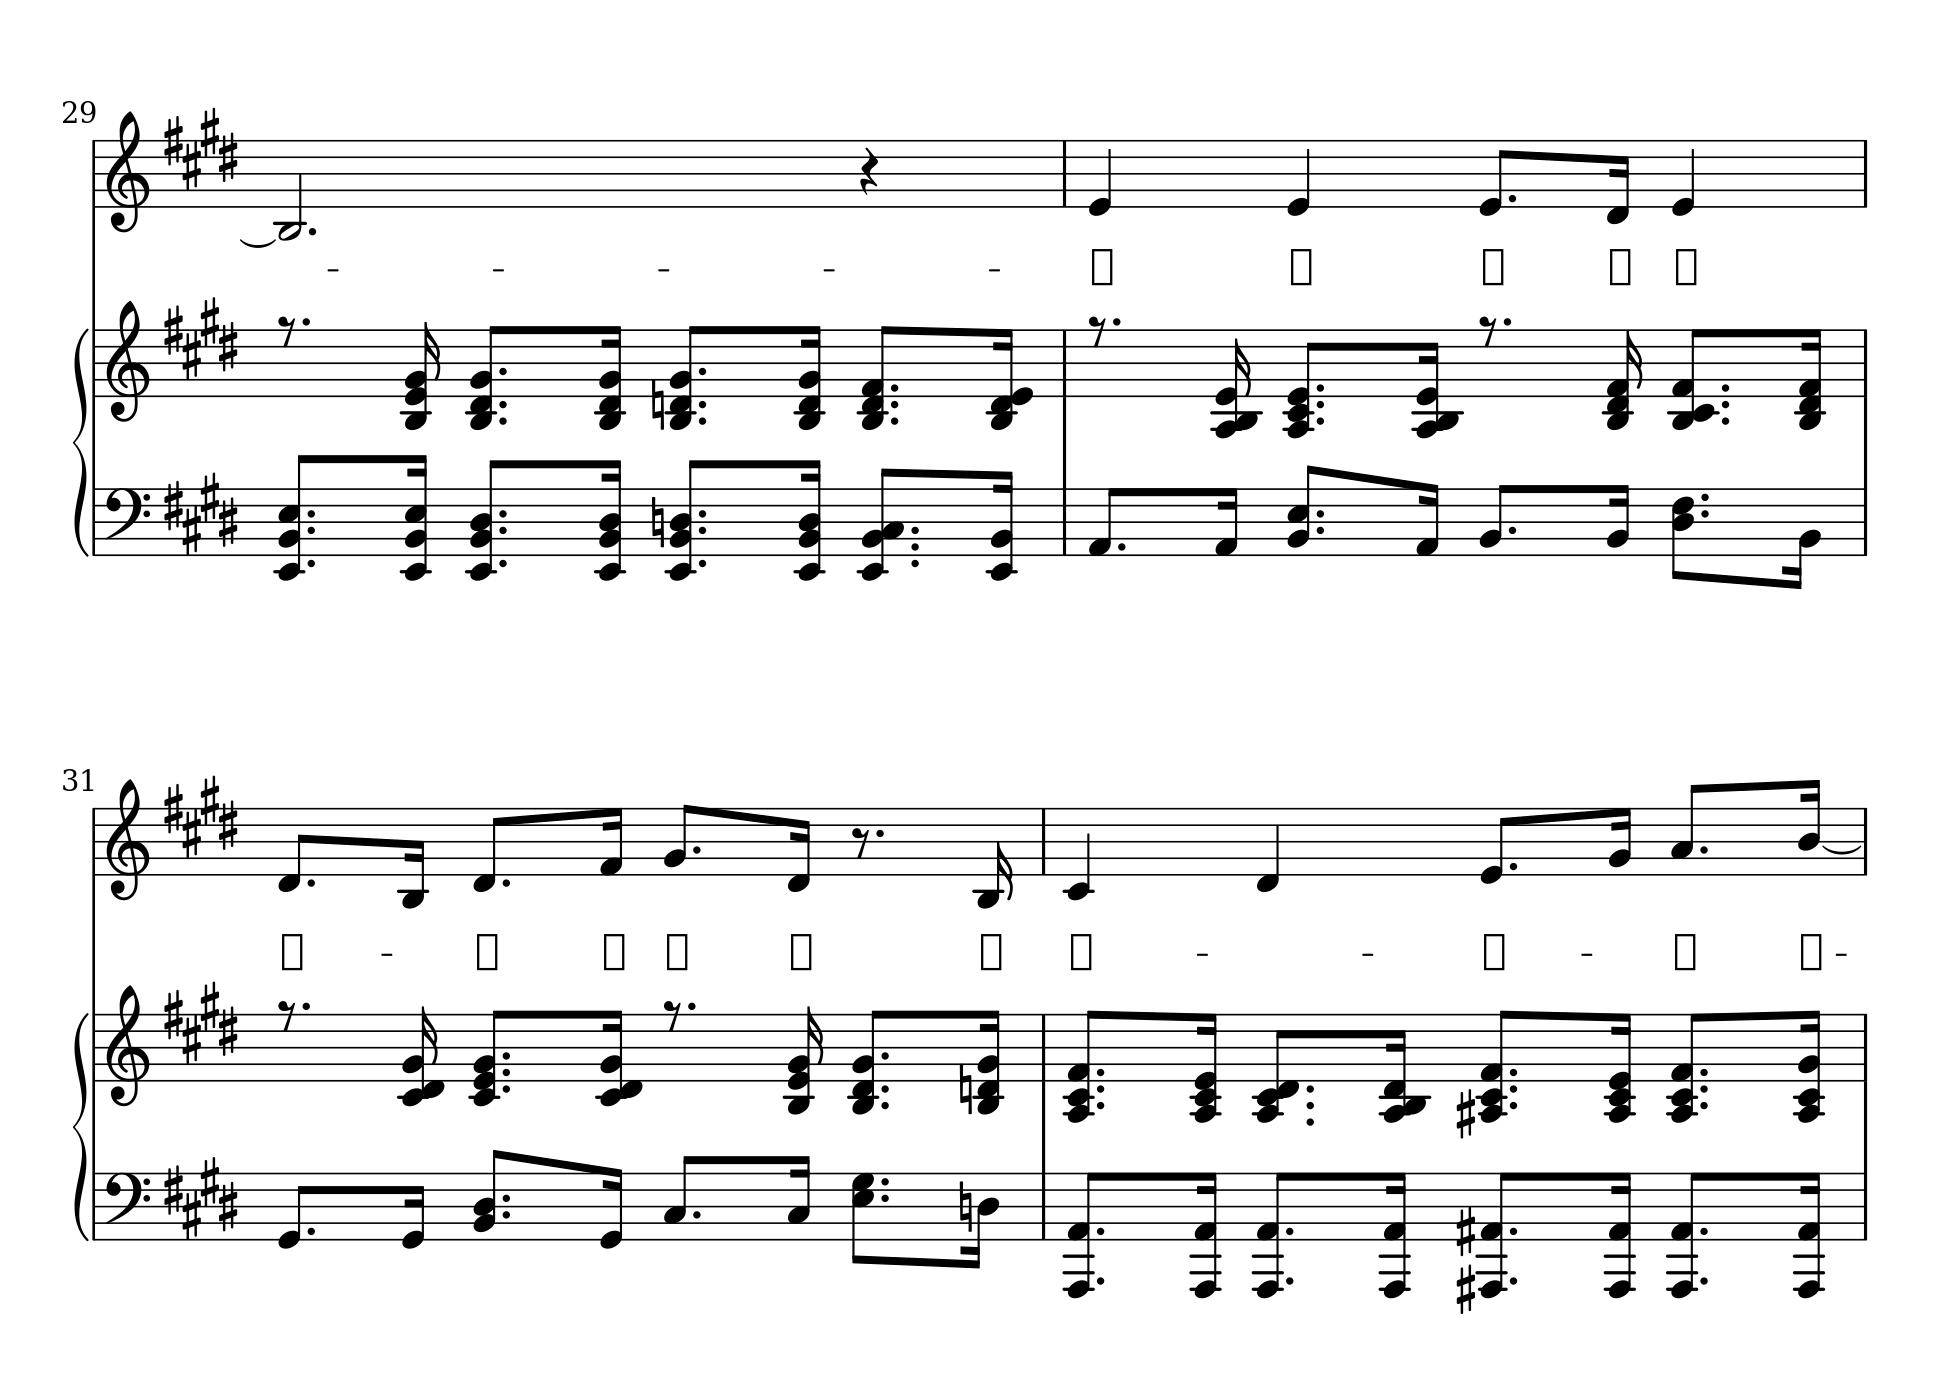1: (81, 765, 94, 793)
16_-1: (786, 805, 813, 895), (1606, 138, 1632, 226)
16_-3: (975, 805, 1015, 909), (397, 805, 427, 910)
16_-6_1: (1189, 1170, 1225, 1300), (1794, 1170, 1828, 1300), (1380, 1170, 1413, 1299), (1605, 1171, 1636, 1300)
16_0: (597, 1164, 625, 1251), (399, 1171, 427, 1251)
16_1: (1414, 481, 1443, 558), (1213, 486, 1242, 558), (598, 805, 625, 877)
16_2: (1785, 486, 1821, 589), (1605, 483, 1632, 556), (1608, 805, 1635, 877)
16_3: (786, 1153, 811, 1240)
16_4: (966, 1171, 1000, 1270), (1797, 775, 1822, 877)
16_th: (1212, 328, 1266, 444), (1413, 328, 1467, 441), (594, 1009, 648, 1111), (394, 1002, 445, 1108), (1383, 1014, 1431, 1126), (783, 1003, 825, 1117), (990, 325, 1033, 433), (1602, 328, 1644, 433), (400, 451, 432, 580), (1603, 1011, 1638, 1123), (1794, 1009, 1825, 1129), (1189, 1011, 1222, 1125), (595, 456, 625, 580), (796, 457, 826, 582), (793, 325, 826, 433), (594, 325, 627, 432), (1795, 327, 1827, 433), (976, 1006, 1002, 1116)
2: (60, 97, 78, 124)
2_-3: (274, 136, 304, 241)
3: (60, 766, 76, 793)
4_-1: (1255, 805, 1282, 894)
4_-2: (1065, 805, 1093, 901)
4_0: (1087, 136, 1114, 217), (1671, 136, 1698, 217), (1287, 136, 1312, 217)
4_4_6: (1671, 484, 1696, 583)
8_-1: (276, 805, 309, 892), (471, 805, 504, 892)
8_-6_1: (1251, 1171, 1290, 1300), (1063, 1170, 1101, 1297), (1665, 1170, 1702, 1297), (1477, 1171, 1512, 1299)
8_0: (1479, 136, 1512, 217), (1479, 804, 1512, 885), (276, 1170, 309, 1249)
8_1: (1086, 486, 1120, 558)
8_2: (661, 801, 694, 877), (1479, 481, 1512, 556)
8_2_4: (472, 1147, 505, 1243)
8_3: (1669, 781, 1704, 877), (661, 1153, 696, 1242)
8_5_7: (850, 1170, 876, 1266)
8_th: (1666, 325, 1719, 433), (1251, 1012, 1299, 1126), (859, 466, 904, 585), (279, 450, 318, 586), (400, 319, 441, 433), (1668, 1011, 1705, 1126), (664, 457, 697, 583), (1479, 1009, 1513, 1126), (466, 454, 498, 580), (847, 1008, 882, 1119), (1068, 1008, 1099, 1126), (466, 322, 499, 433), (1284, 327, 1317, 438), (670, 324, 702, 432), (858, 327, 889, 433), (472, 1008, 502, 1111)
9: (78, 97, 97, 124)
B_S: (160, 469, 241, 558), (160, 979, 241, 1066), (160, 775, 241, 861), (160, 1155, 241, 1240), (160, 106, 241, 190)
Brace: (70, 1011, 88, 1240), (70, 328, 88, 556)
E_S: (160, 295, 240, 381)
Fclef: (103, 486, 153, 558), (103, 1170, 153, 1242)
Gclef: (103, 298, 153, 424), (103, 109, 151, 235), (103, 775, 151, 901), (103, 982, 151, 1107)
Natural: (649, 493, 666, 550), (649, 378, 666, 432), (957, 1062, 973, 1116), (958, 1177, 973, 1234)
Rests4: (858, 145, 880, 198)
Rests8: (274, 312, 298, 346), (849, 825, 871, 859), (1087, 313, 1108, 346), (1477, 313, 1498, 346), (276, 997, 297, 1030), (661, 997, 682, 1030)
Sharp: (1453, 1204, 1477, 1257), (1455, 1261, 1476, 1314), (1455, 1087, 1476, 1138)
Single_barline: (1857, 139, 1875, 207), (1056, 487, 1074, 555), (1855, 487, 1873, 555), (1035, 807, 1053, 874), (1035, 1012, 1053, 1080), (1056, 139, 1074, 205), (1858, 805, 1875, 877), (1035, 1171, 1053, 1237), (1857, 328, 1873, 397), (1857, 1012, 1873, 1081), (1056, 330, 1072, 396), (85, 805, 100, 876), (1857, 1171, 1872, 1240), (88, 487, 103, 555), (87, 138, 100, 208), (88, 328, 102, 399), (88, 1012, 102, 1081), (88, 1171, 102, 1239)
Slur: (238, 235, 277, 247), (1821, 844, 1863, 853)
dot: (499, 1047, 514, 1099), (1698, 487, 1713, 504), (304, 555, 319, 571), (496, 555, 511, 571), (907, 555, 922, 571), (1719, 412, 1734, 427), (1314, 505, 1329, 520), (907, 522, 922, 537), (688, 841, 703, 856), (1095, 1080, 1110, 1095), (877, 1173, 892, 1188), (499, 1189, 514, 1204), (696, 555, 709, 571), (888, 379, 901, 394), (1314, 379, 1327, 394), (1719, 379, 1732, 394), (496, 396, 510, 411), (889, 396, 903, 411), (1719, 396, 1734, 409), (496, 412, 510, 427), (696, 412, 709, 427), (888, 412, 901, 427), (1699, 505, 1713, 520), (304, 505, 318, 520), (304, 522, 318, 537), (907, 538, 922, 552), (499, 874, 513, 889), (879, 1048, 892, 1063), (499, 1048, 513, 1063), (1095, 1063, 1108, 1078), (1507, 1063, 1521, 1078), (1698, 1063, 1711, 1078), (499, 1081, 514, 1095), (879, 1081, 892, 1096), (1698, 1081, 1713, 1095), (1303, 1096, 1317, 1111), (1507, 1098, 1522, 1111), (1698, 1098, 1713, 1111), (1303, 1111, 1317, 1126), (877, 1191, 892, 1204), (1507, 1222, 1521, 1237), (1507, 1273, 1521, 1288), (1698, 1273, 1711, 1288), (1284, 1273, 1297, 1288), (1506, 190, 1519, 204), (496, 364, 510, 378), (696, 396, 709, 409), (1315, 396, 1329, 409), (1507, 859, 1521, 873), (304, 874, 318, 888), (1507, 1081, 1521, 1095), (879, 1098, 892, 1111), (1095, 1098, 1108, 1111), (696, 364, 708, 379), (496, 505, 508, 520), (696, 505, 708, 520), (1116, 538, 1128, 553), (873, 826, 888, 838), (1698, 841, 1710, 856), (1305, 1081, 1317, 1096), (1095, 1222, 1107, 1237), (1284, 1222, 1296, 1237), (1698, 1222, 1710, 1237), (1095, 1273, 1107, 1288), (300, 315, 312, 328), (1113, 315, 1125, 328), (1315, 414, 1327, 427), (496, 523, 510, 535), (696, 523, 709, 535), (1314, 523, 1327, 535), (1506, 523, 1519, 535), (685, 999, 697, 1012), (499, 1066, 513, 1078), (690, 1207, 702, 1221), (499, 1207, 513, 1219), (304, 1224, 316, 1237), (307, 223, 318, 237), (1503, 315, 1513, 328), (301, 1000, 312, 1012)
